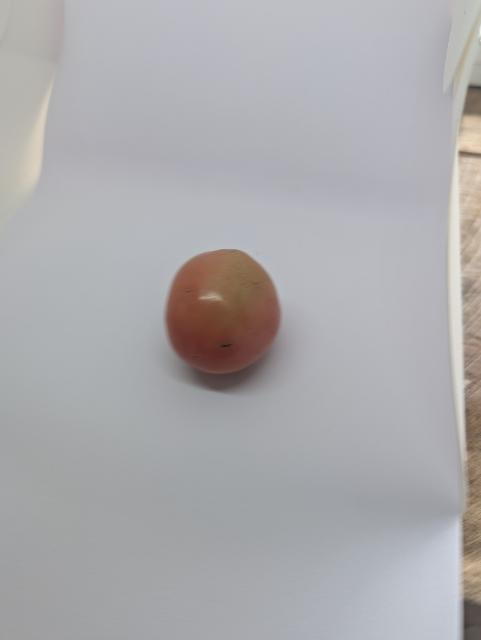turning: (158, 242, 286, 376)
